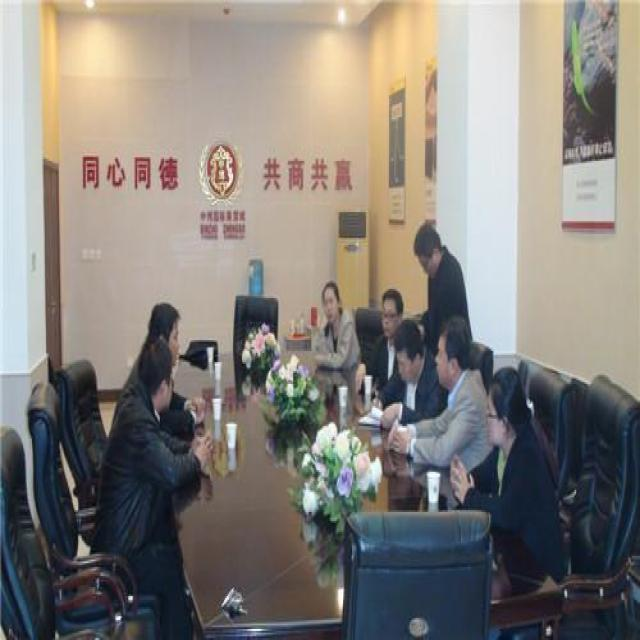no-helmet: (138, 326, 180, 404), (487, 358, 522, 446), (429, 320, 472, 391), (144, 298, 186, 368), (392, 320, 426, 389), (411, 216, 445, 282), (378, 285, 406, 340), (316, 276, 341, 326)
